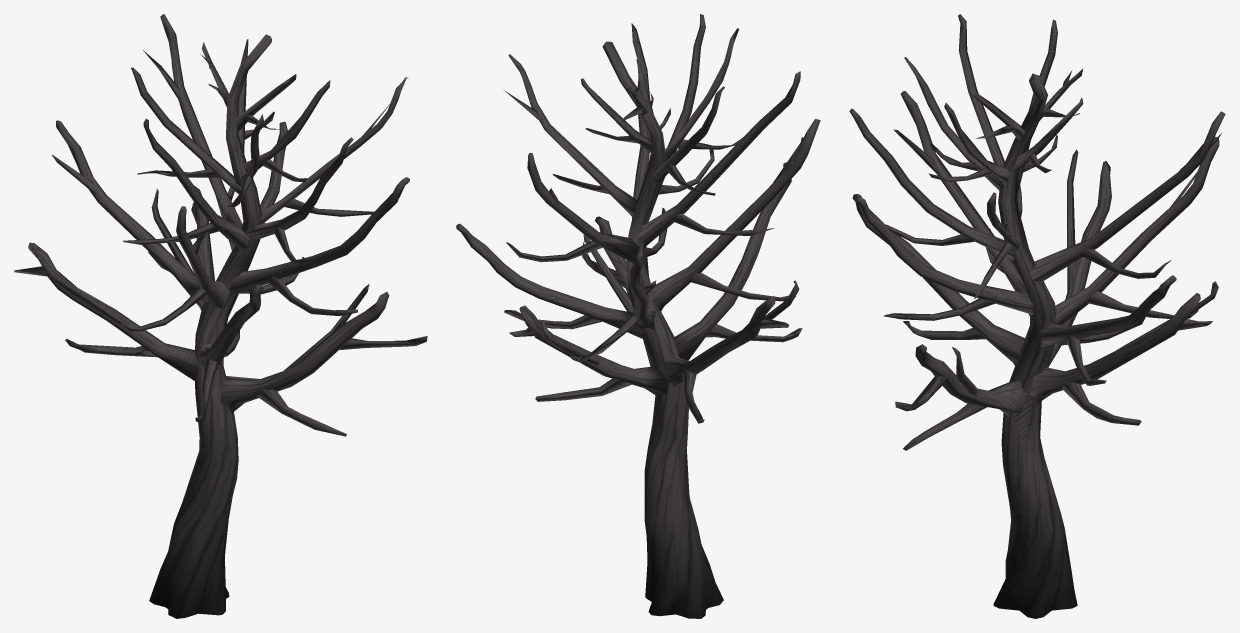
File: DeadTree_1.gltf
3 renders of one model, left to right at view 1: azimuth 30°, elevation 25°; view 2: azimuth 150°, elevation 25°; view 3: azimuth 270°, elevation 25°, orthographic. The views are drawn at different scales.
Parts seen in each view (by area): view 1: DeadTree_1; view 2: DeadTree_1; view 3: DeadTree_1.
Boxes of the visible parts, bbox=[...] form: DeadTree_1: bbox=[14, 14, 427, 618]; DeadTree_1: bbox=[456, 14, 820, 618]; DeadTree_1: bbox=[849, 14, 1225, 618].
Size of the model in its own units: 6.14 by 9.5 by 5.75.
1 material, 1 textured.
